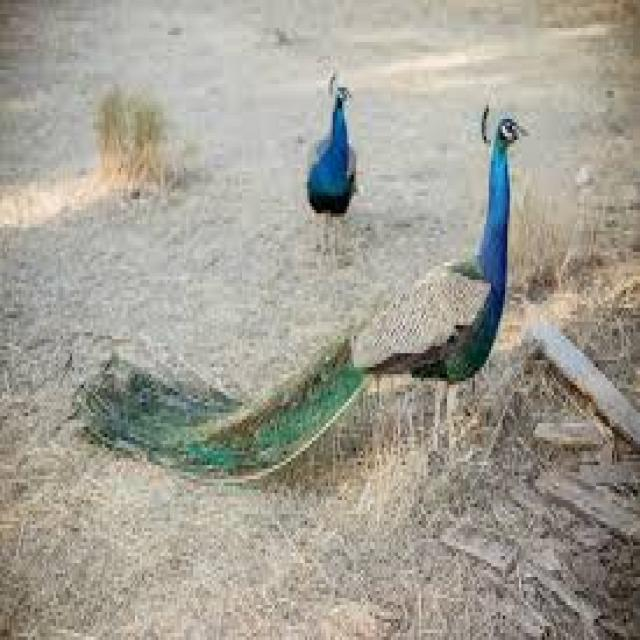peacock: (445, 83, 539, 383), (312, 60, 376, 250)
